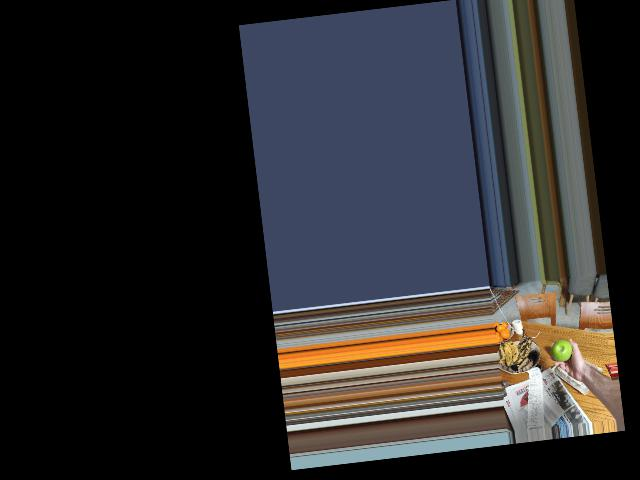apple: (550, 334, 573, 366)
